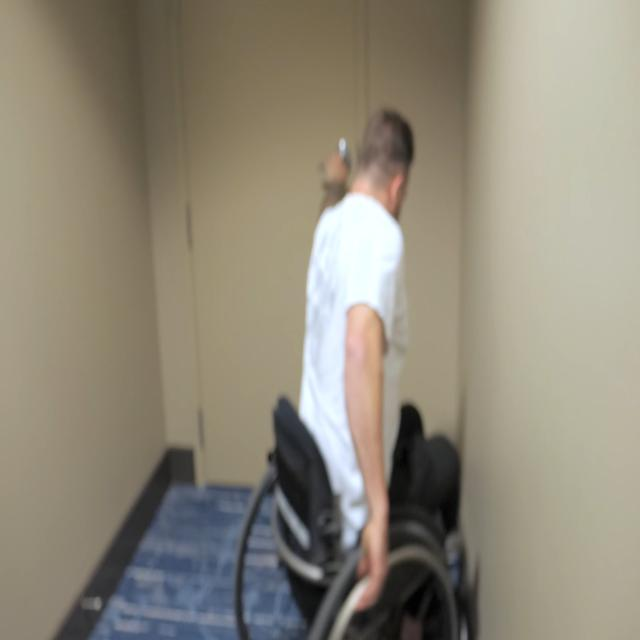wheelchairs: (231, 391, 462, 640)
